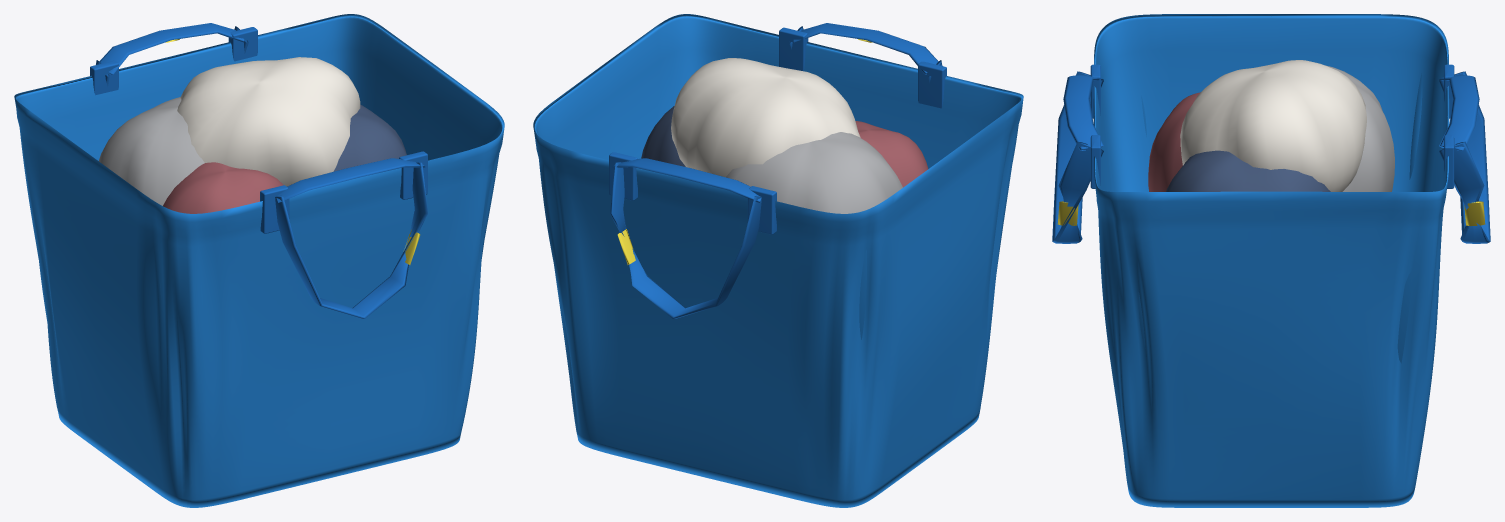
The model's file is blue_wardrobe_bag.glb.
3 views of the same model, side by side, from view 1: azimuth 30°, elevation 25°; view 2: azimuth 150°, elevation 25°; view 3: azimuth 270°, elevation 25° (orthographic). The views are drawn at different scales.
Visible parts, largest first — view 1: FRAKTA_Body, Stuffing_Cream_Shirt, FRAKTA_Blue_Straps, Stuffing_Grey_Hoodie, Stuffing_Burgundy_Knit, Stuffing_Navy_Roll; view 2: FRAKTA_Body, Stuffing_Cream_Shirt, FRAKTA_Blue_Straps, Stuffing_Grey_Hoodie, Stuffing_Burgundy_Knit, Stuffing_Navy_Roll; view 3: FRAKTA_Body, Stuffing_Cream_Shirt, FRAKTA_Blue_Straps, Stuffing_Navy_Roll, Stuffing_Grey_Hoodie, Stuffing_Burgundy_Knit, FRAKTA_Yellow_Accents.
Boxes of the visible parts, bbox=[...] form: FRAKTA_Body: bbox=[14, 14, 504, 507]; Stuffing_Cream_Shirt: bbox=[177, 57, 360, 186]; FRAKTA_Blue_Straps: bbox=[90, 23, 427, 318]; Stuffing_Grey_Hoodie: bbox=[99, 97, 204, 205]; Stuffing_Burgundy_Knit: bbox=[163, 162, 283, 213]; Stuffing_Navy_Roll: bbox=[333, 104, 406, 171]; FRAKTA_Body: bbox=[533, 14, 1023, 507]; Stuffing_Cream_Shirt: bbox=[671, 58, 860, 177]; FRAKTA_Blue_Straps: bbox=[609, 23, 946, 318]; Stuffing_Grey_Hoodie: bbox=[726, 132, 902, 213]; Stuffing_Burgundy_Knit: bbox=[855, 121, 928, 187]; Stuffing_Navy_Roll: bbox=[641, 106, 685, 166]; FRAKTA_Body: bbox=[1093, 14, 1449, 507]; Stuffing_Cream_Shirt: bbox=[1180, 60, 1366, 191]; FRAKTA_Blue_Straps: bbox=[1052, 64, 1490, 243]; Stuffing_Navy_Roll: bbox=[1166, 150, 1330, 191]; Stuffing_Grey_Hoodie: bbox=[1325, 65, 1394, 191]; Stuffing_Burgundy_Knit: bbox=[1148, 92, 1200, 191]; FRAKTA_Yellow_Accents: bbox=[1057, 201, 1485, 226].
Size of the model in its own units: 0.4145 by 0.4006 by 0.432.
